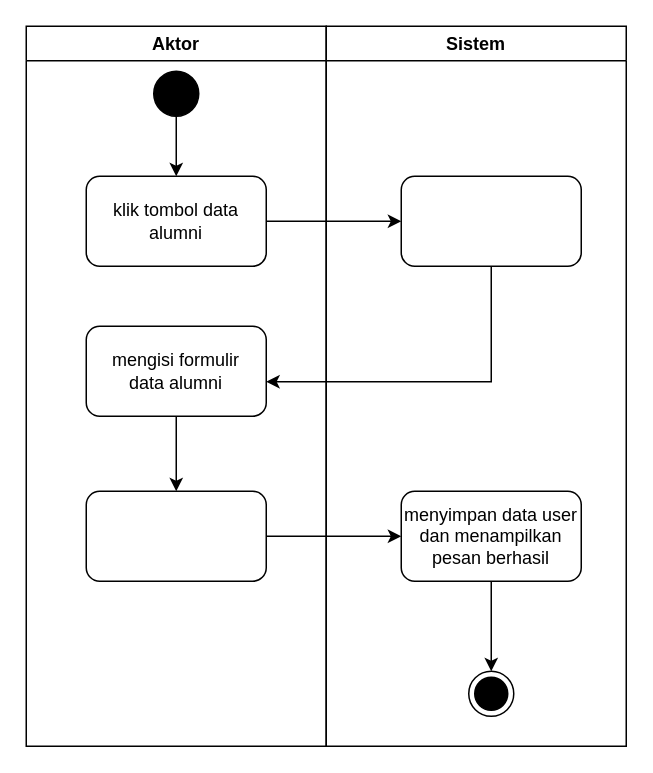
The diagram is 653 pixels wide and 773 high, and some of its shapes have lost their labels. Each missing label, with the box of its shape:
klik tombol simpan: (85, 490, 266, 581)
menampilkan formulir data alumni: (400, 175, 581, 266)
